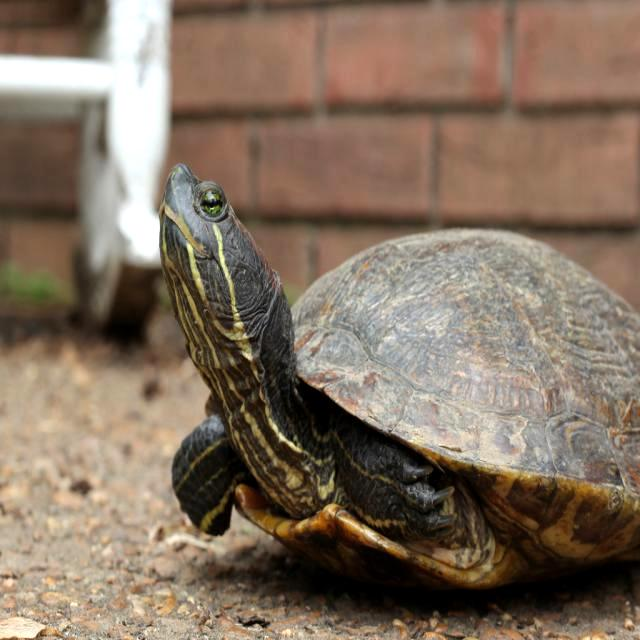Sea turtle: (155, 158, 640, 598)
